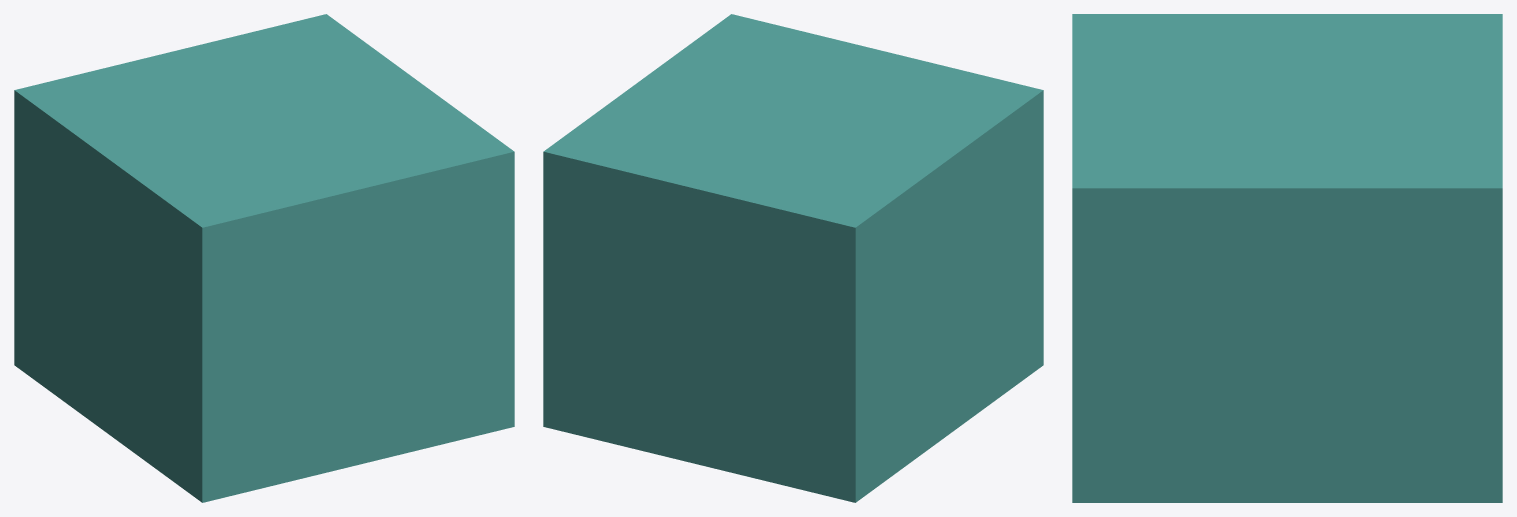
Rendered from TheCube2.fbx.
3 renders of one model, left to right at view 1: azimuth 30°, elevation 25°; view 2: azimuth 150°, elevation 25°; view 3: azimuth 270°, elevation 25°, orthographic. The views are drawn at different scales.
Parts seen in each view (by area): view 1: pCube1; view 2: pCube1; view 3: pCube1.
Boxes of the visible parts, x1=… form: pCube1: x1=14, y1=14, x2=514, y2=502; pCube1: x1=543, y1=14, x2=1043, y2=502; pCube1: x1=1072, y1=14, x2=1502, y2=502.
Size of the model in its own units: 1.97 by 1.66 by 2.06.
